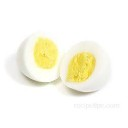begg: (64, 39, 110, 92), (19, 33, 60, 83)
